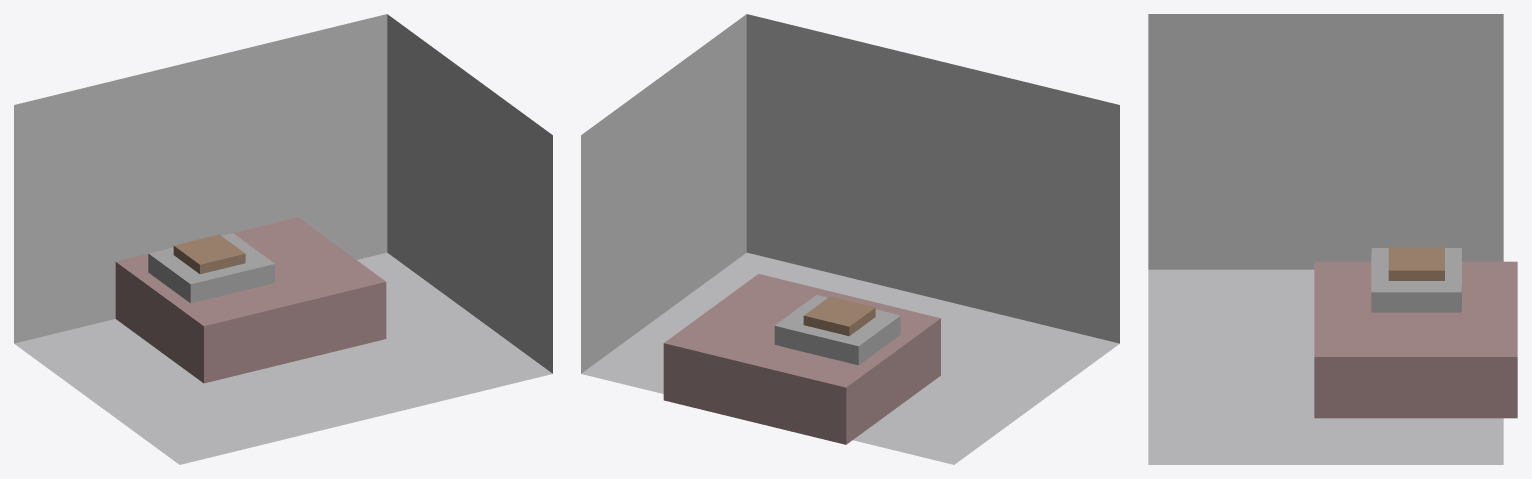
Rendered from optimised_layout.glb.
3 views of the same model, side by side, from view 1: azimuth 30°, elevation 25°; view 2: azimuth 150°, elevation 25°; view 3: azimuth 270°, elevation 25° (orthographic). The views are drawn at different scales.
Visible parts, largest first — view 1: room, bed, dustbin, wardrobe, chair; view 2: room, bed, wardrobe, chair, dustbin; view 3: room, bed, dustbin, chair, wardrobe.
Part boxes in pixels (bbox=[...]): room: bbox=[14, 14, 552, 464]; bed: bbox=[115, 217, 386, 383]; dustbin: bbox=[160, 233, 274, 300]; wardrobe: bbox=[148, 236, 263, 303]; chair: bbox=[173, 234, 245, 274]; room: bbox=[581, 14, 1119, 464]; bed: bbox=[663, 274, 940, 444]; wardrobe: bbox=[785, 312, 900, 365]; chair: bbox=[803, 296, 875, 336]; dustbin: bbox=[774, 295, 888, 347]; room: bbox=[1148, 14, 1503, 464]; bed: bbox=[1314, 261, 1517, 418]; dustbin: bbox=[1371, 254, 1461, 312]; chair: bbox=[1388, 247, 1444, 280]; wardrobe: bbox=[1371, 248, 1461, 306].
Size of the model in its own units: 4.09 by 2.5 by 3.27.
